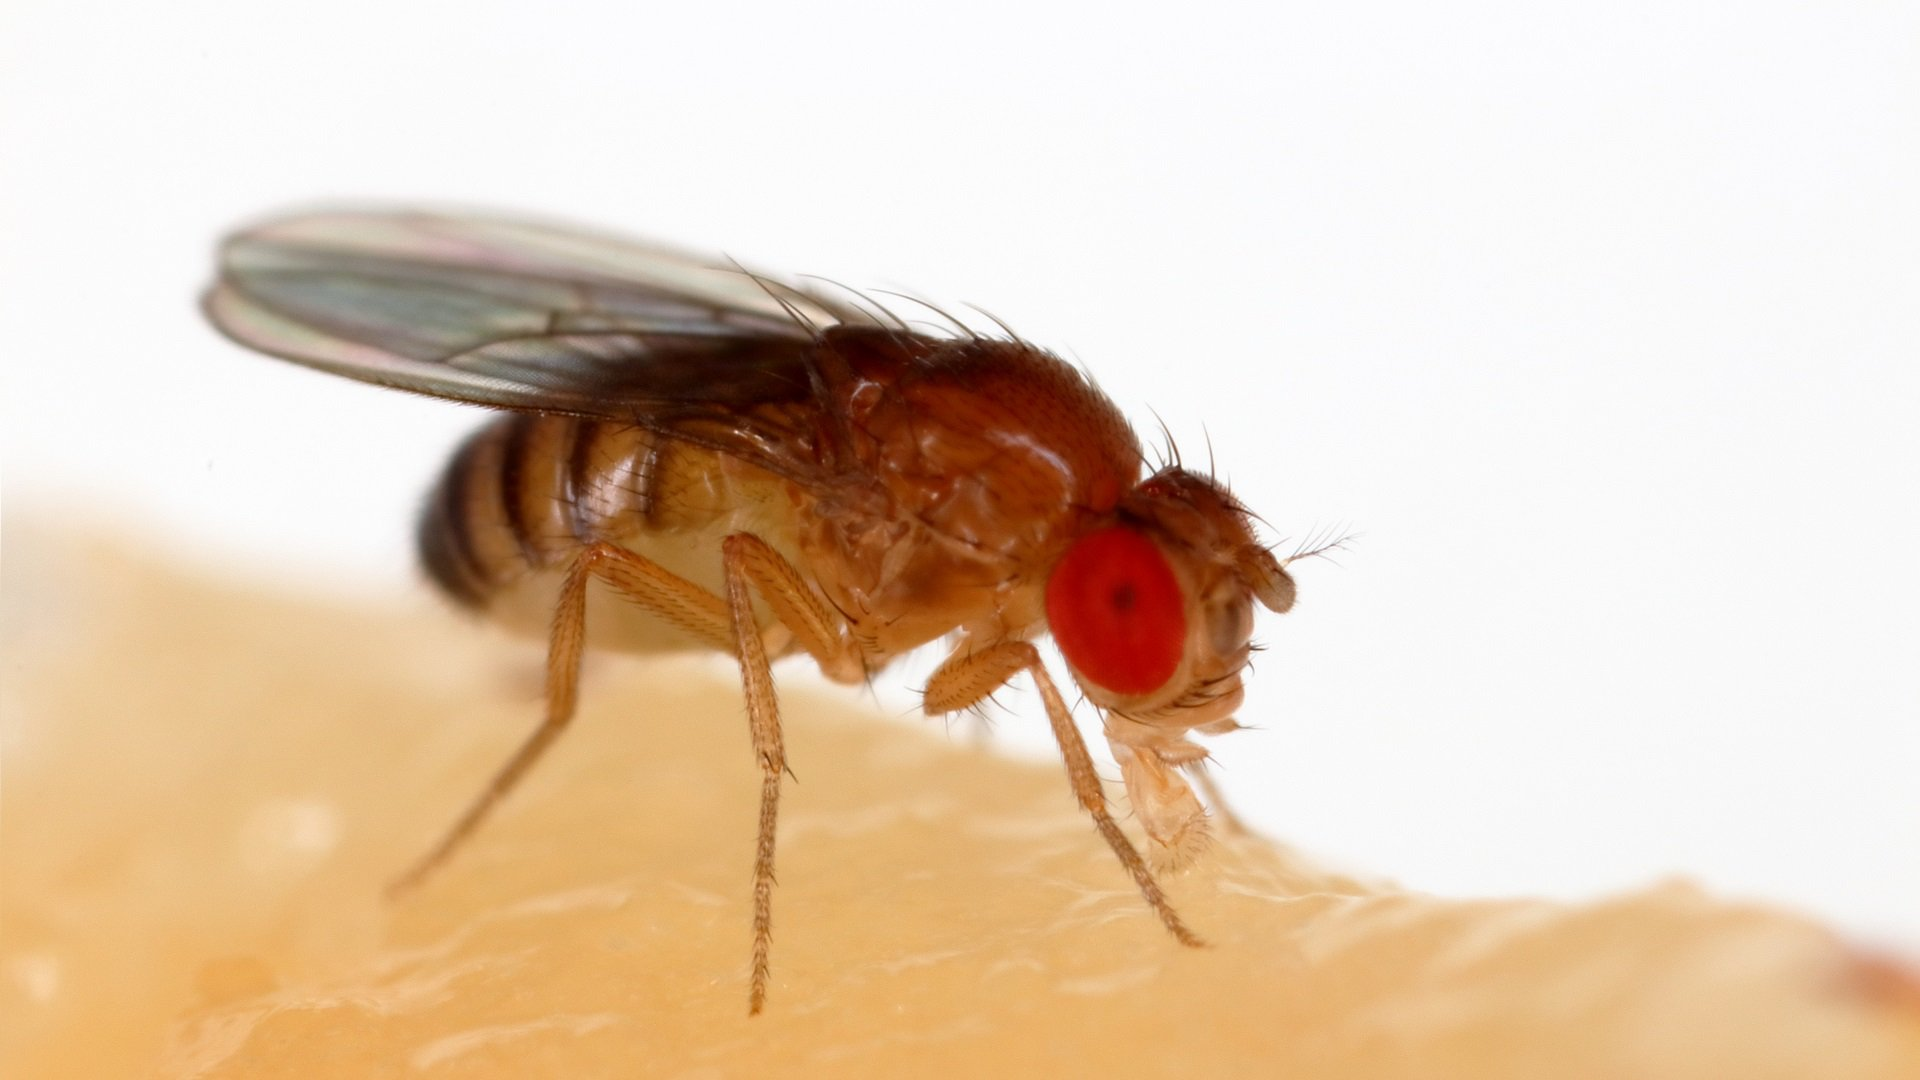Fruit fly: (159, 163, 1380, 969)
